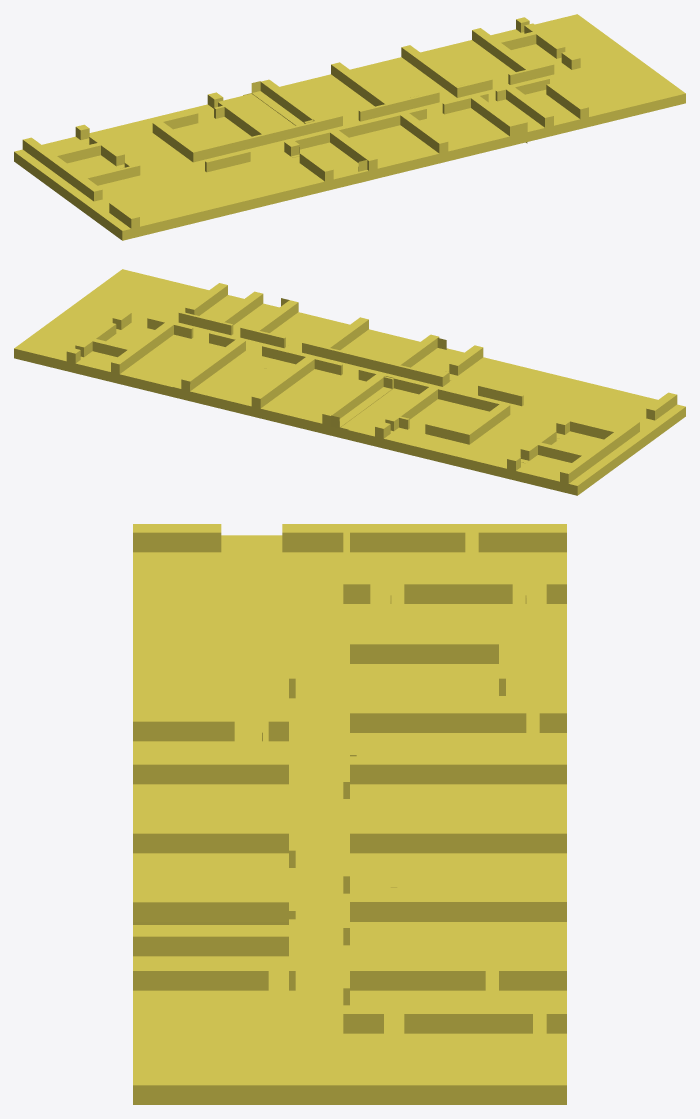
File: alphaRFirstFloor.glb
The picture shows the model from 3 angles, top to bottom: view 1: azimuth 30°, elevation 25°; view 2: azimuth 150°, elevation 25°; view 3: azimuth 270°, elevation 25°; orthographic projection. The views are drawn at different scales.
Visible parts, largest first — view 1: Cube; view 2: Cube; view 3: Cube.
Boxes of the visible parts, left/top/right/bottom form: Cube: left=14, top=14, right=685, bottom=240; Cube: left=14, top=269, right=685, bottom=495; Cube: left=133, top=524, right=566, bottom=1104.
Bounding box in the file's own units: 120 × 4.45 × 40.
